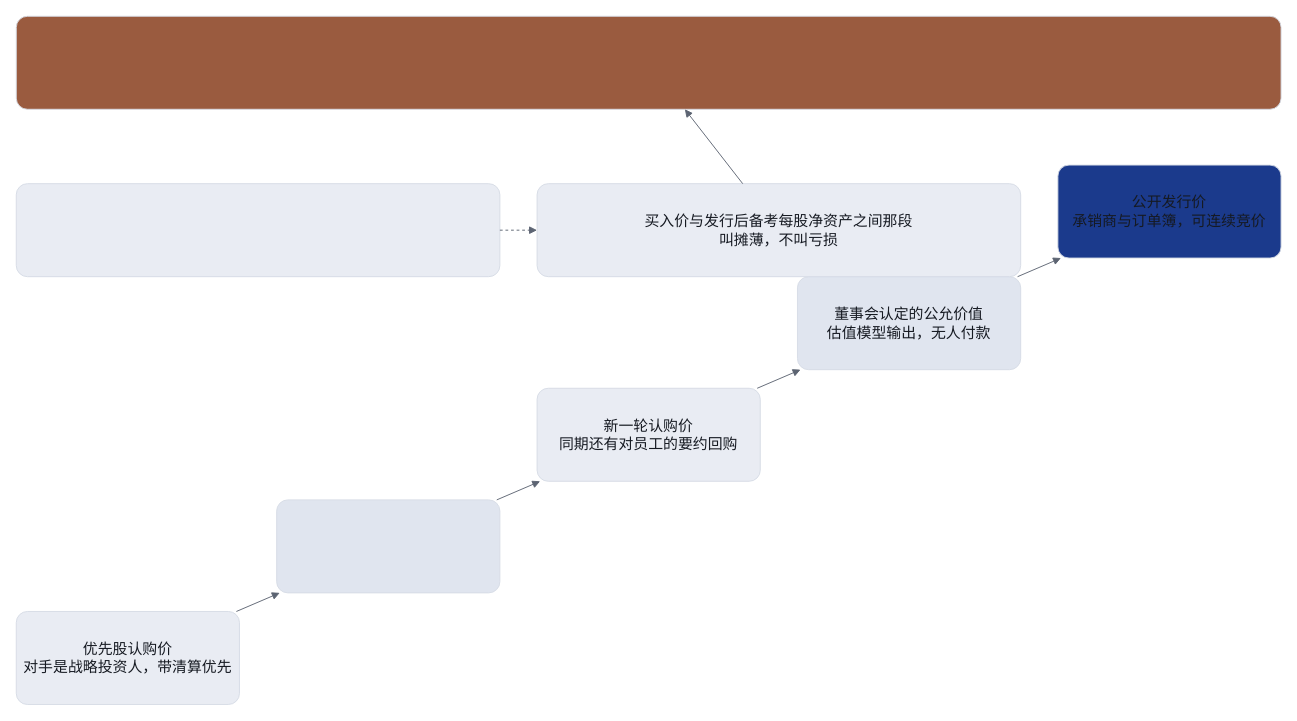
The diagram is 1297 pixels wide and 721 high, and some of its shapes have lost their labels. Here are the shapes that lost their labels. From the top down, the centre of each, then its label:
At pixel 648 62: "一级与二级不可互证 一级含流动性折价、对手是员工与战投；二级可做空、进指数".
At pixel 257 230: "优先股转普通股的比例不是一比一 普通股排在后面，先看谁先拿钱".
At pixel 388 546: "远期合同的结算公允价值 报表上是负债，无人付款".
